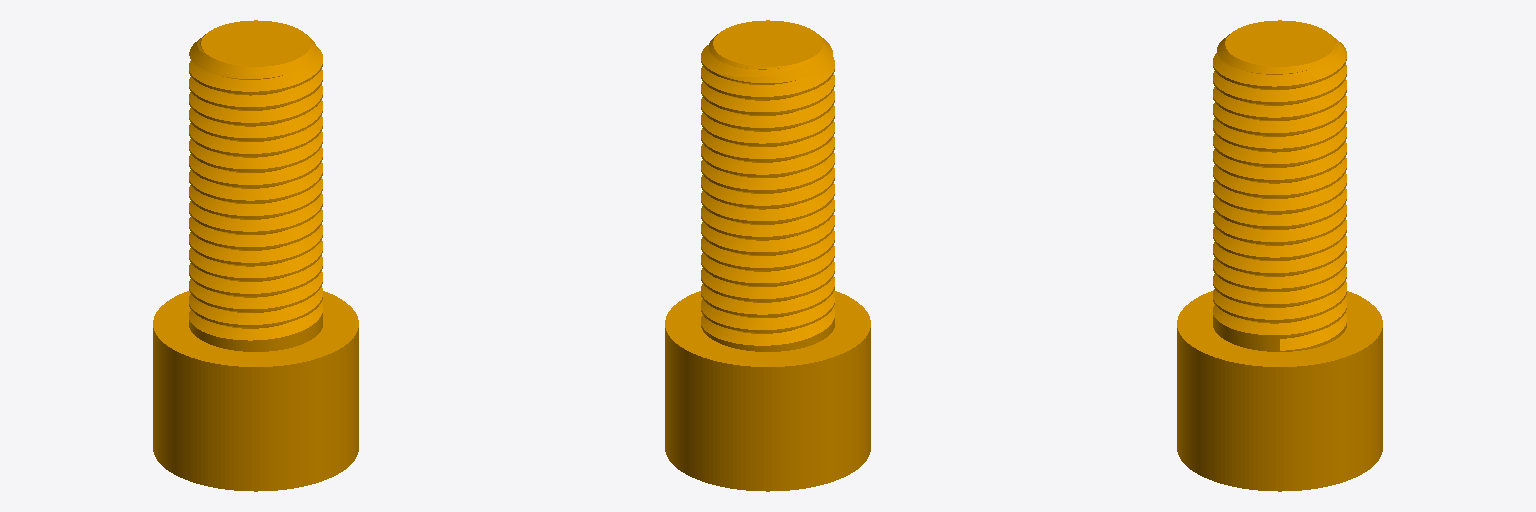
URDF robot description (factory_bolt_m20_loose):
<?xml version="1.0"?>
<robot name="factory_bolt_m20_loose">
    <link name="factory_bolt_m20_loose">
        <visual>
            <geometry>
                <mesh filename="../mesh/factory_nut_bolt/factory_bolt_m20_loose.obj"/>
            </geometry>
        </visual>
        <collision>
            <geometry>
                <mesh filename="../mesh/factory_nut_bolt/factory_bolt_m20_loose.obj"/>
            </geometry>
            <sdf resolution="512"/>
        </collision>
    </link>
</robot>

--- Render facts (derived) ---
3 views of the same robot in one strip: view 1: azimuth 30°, elevation 25°; view 2: azimuth 150°, elevation 25°; view 3: azimuth 270°, elevation 25° (orthographic).
Model factory_bolt_m20_loose with 1 links and 0 joints (none), rooted at factory_bolt_m20_loose, posed all joints at 0.
Links seen in each view (by area): view 1: factory_bolt_m20_loose; view 2: factory_bolt_m20_loose; view 3: factory_bolt_m20_loose.
Link boxes in pixels (left/top/right/bottom): factory_bolt_m20_loose: left=153, top=20, right=358, bottom=491; factory_bolt_m20_loose: left=665, top=20, right=870, bottom=491; factory_bolt_m20_loose: left=1177, top=20, right=1382, bottom=491.
Bounding box of the posed robot: 0.03 × 0.03 × 0.065 m (x, y, z).
1 mesh visuals loaded from 1 distinct referenced files (1 OBJ).